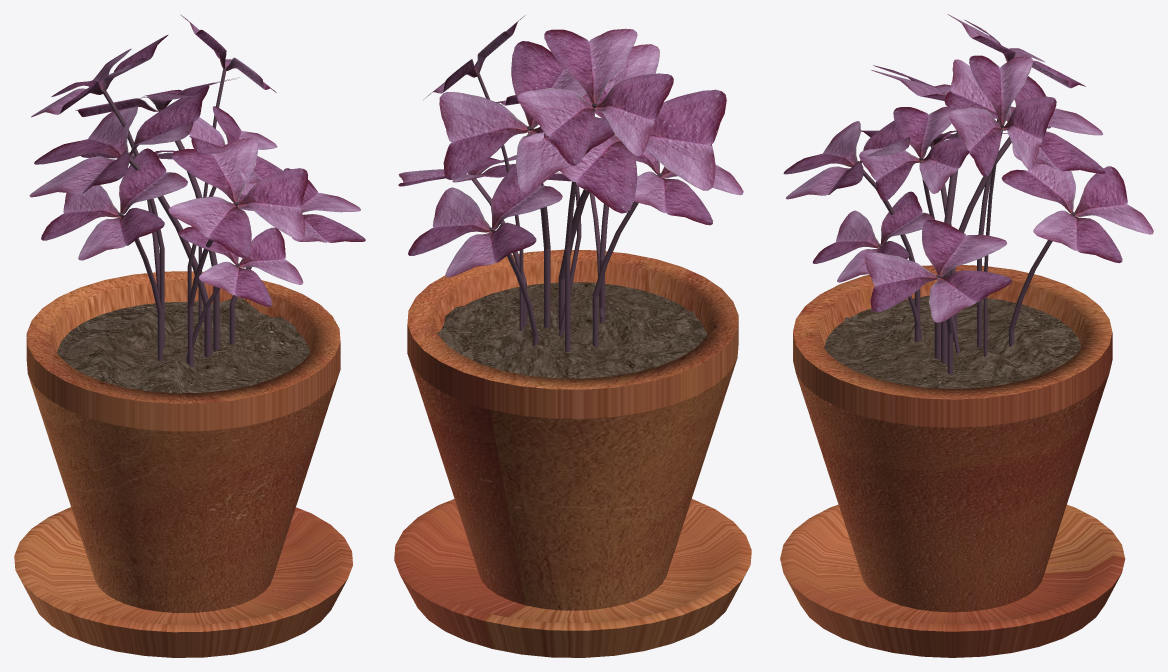
File: False Shamrockss.fbx
The picture shows the model from 3 angles, left to right: view 1: azimuth 30°, elevation 25°; view 2: azimuth 150°, elevation 25°; view 3: azimuth 270°, elevation 25°; orthographic projection. The views are drawn at different scales.
Visible parts, largest first — view 1: Cylinder.006; view 2: Cylinder.006; view 3: Cylinder.006.
Part boxes in pixels (x1,y1,x2,y2): Cylinder.006: [14, 14, 365, 657]; Cylinder.006: [394, 15, 751, 657]; Cylinder.006: [780, 14, 1153, 657].
Size of the model in its own units: 46.48 by 76.94 by 46.64.
Materials: 42 (32 with a texture image).
